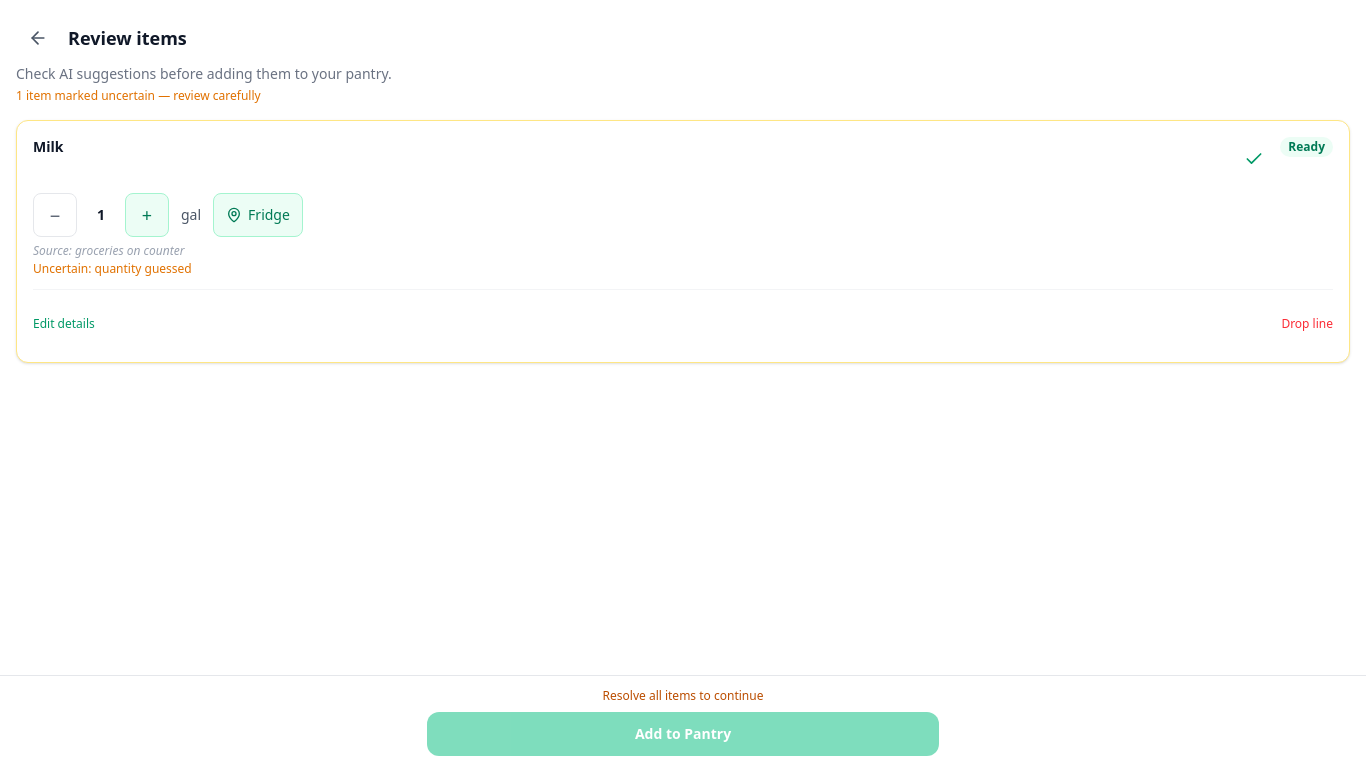
Scenario: BatchReviewScreen › parse metadata visibility › unblocks Add to Pantry after Looks right and drops Uncertain copy
Expected: the button "Add to Pantry" is disabled, [427,712,939,756]
Expected: the text "Uncertain: quantity guessed" is shown once, [33,260,192,277]
Click the button named "Looks right" at (1254, 159), box [1232,137,1276,181]
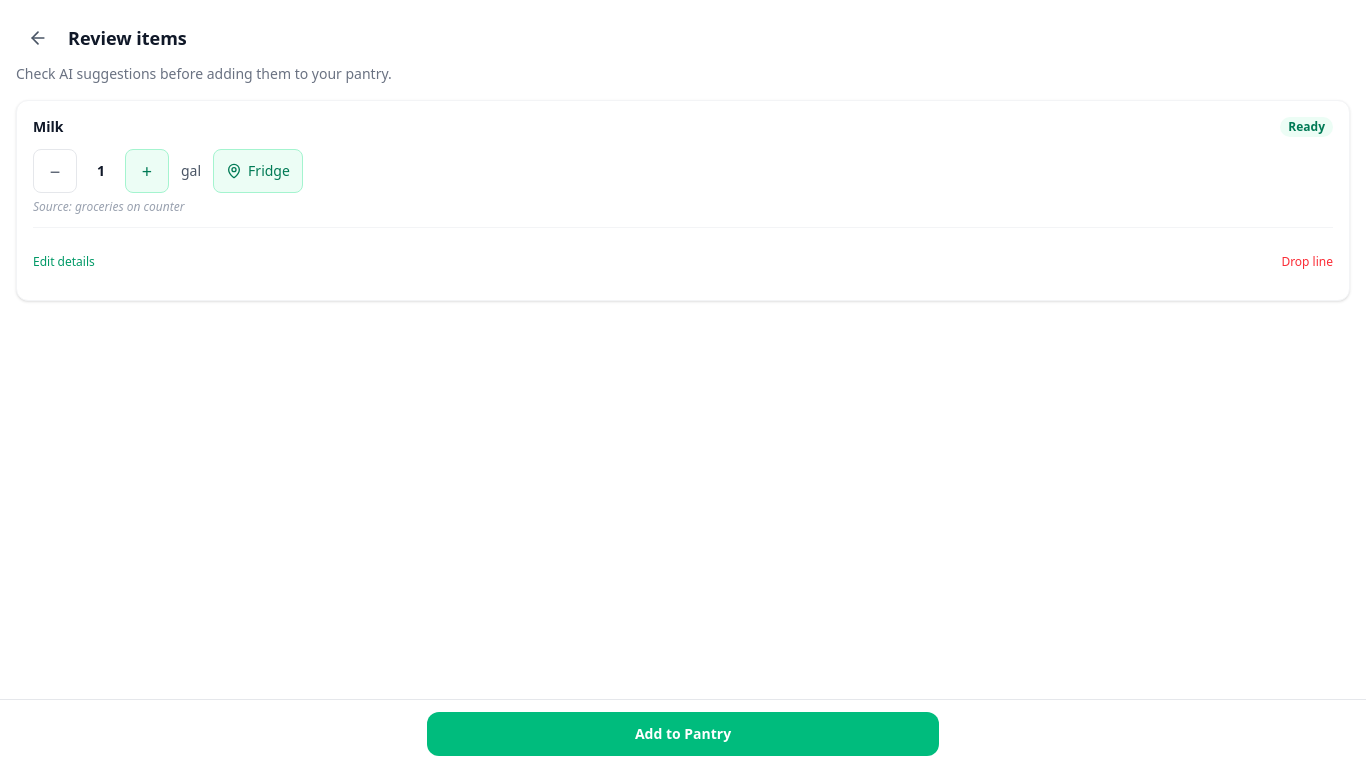
Expected: the button "Edit details" is shown, [33,240,95,284]
Now the text "Uncertain:" is gone
Now the button "Add to Pantry" is enabled, box [427,712,939,756]
